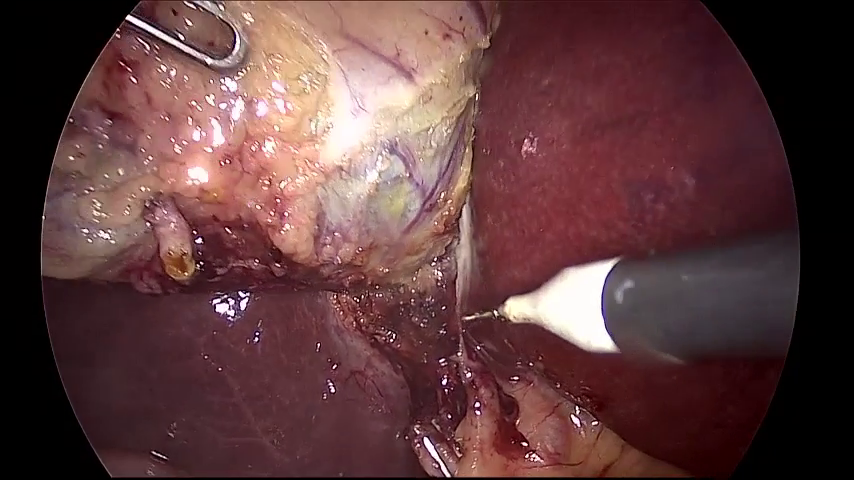grasper: (120, 1, 246, 66)
lhook: (460, 231, 800, 364)
